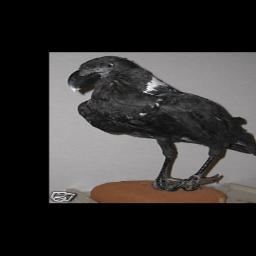Crow: (64, 56, 256, 192)
